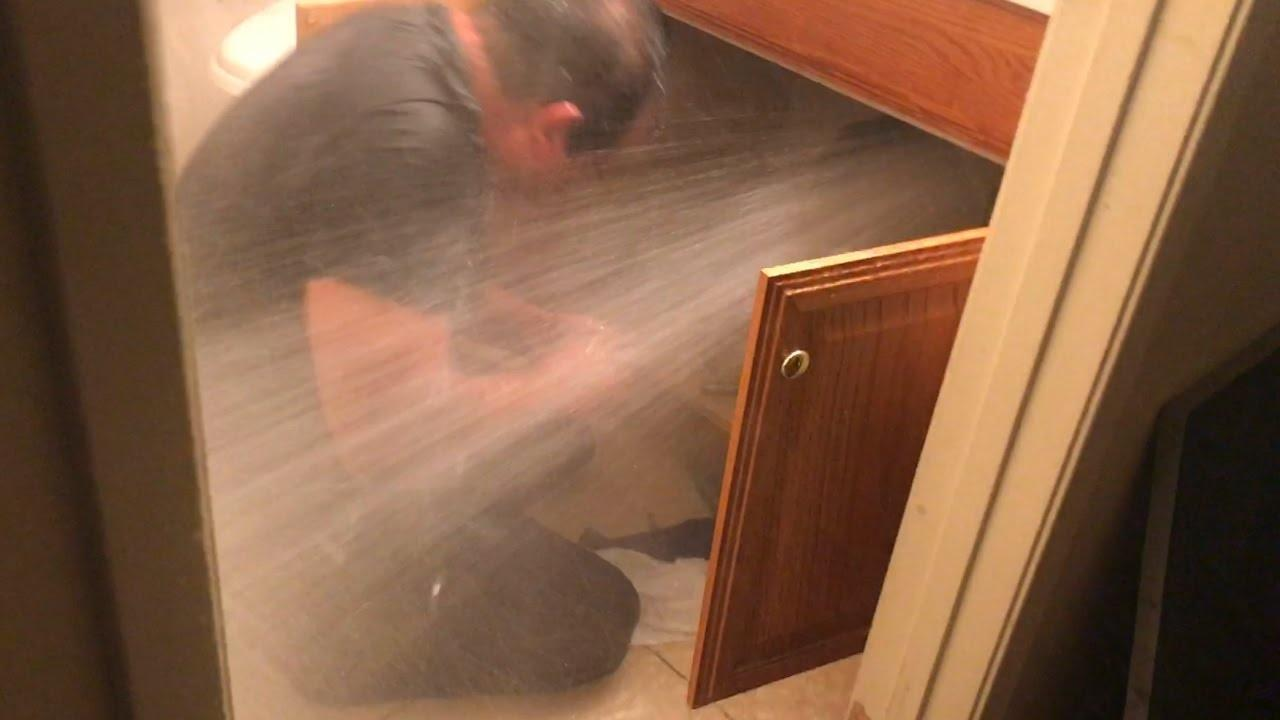pipe burst: (181, 120, 970, 720)
